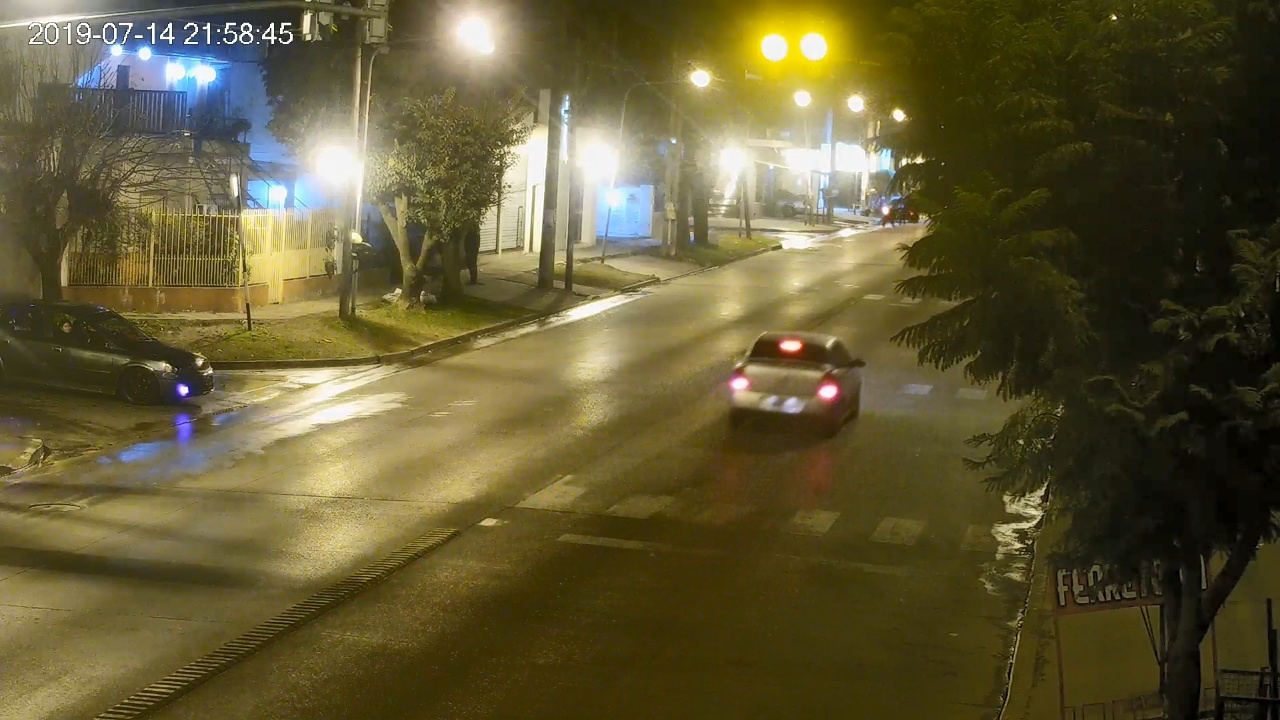car: (731, 330, 866, 435)
